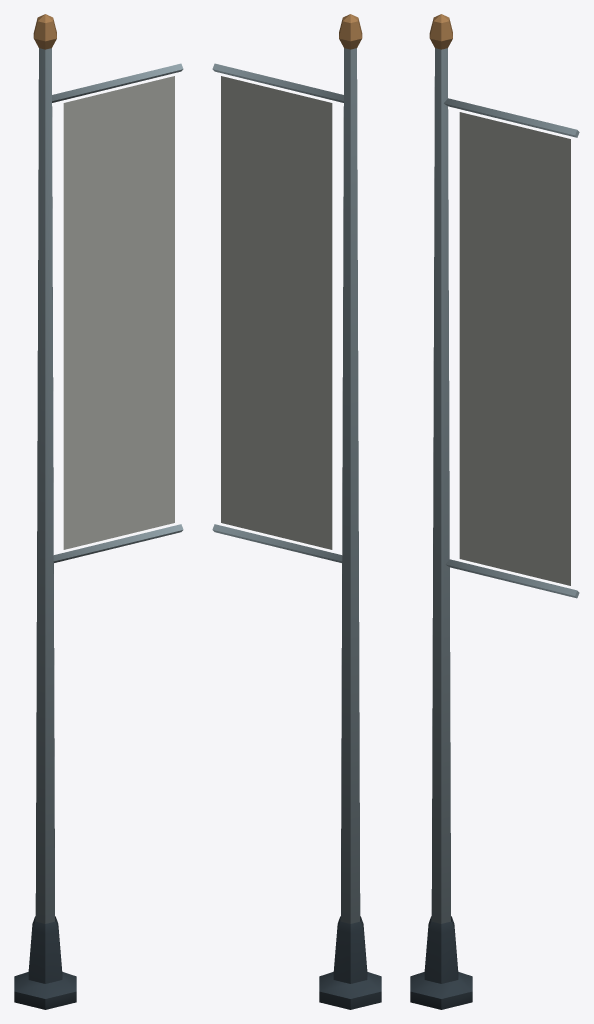
The model's file is banner-mast.lod2.glb.
The picture shows the model from 3 angles, left to right: view 1: azimuth 30°, elevation 25°; view 2: azimuth 150°, elevation 25°; view 3: azimuth 330°, elevation 25°; orthographic projection.
Visible parts, largest first — view 1: banner, structure; view 2: banner, structure; view 3: banner, structure.
Part boxes in pixels (left/top/right/bottom): banner: left=63, top=76, right=174, bottom=549; structure: left=14, top=14, right=183, bottom=1009; banner: left=221, top=76, right=332, bottom=549; structure: left=212, top=14, right=381, bottom=1009; banner: left=459, top=112, right=570, bottom=585; structure: left=410, top=14, right=579, bottom=1009.
Size of the model in its own units: 1.29 by 7.24 by 0.4156.
